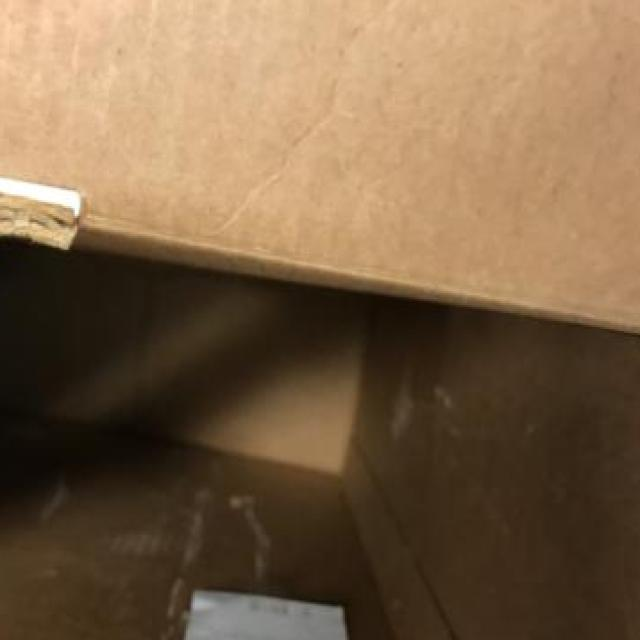organic: (5, 4, 637, 621)
